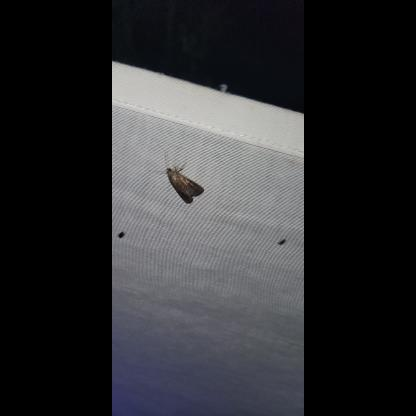Fall Armyworm Moth: (156, 151, 206, 205)
